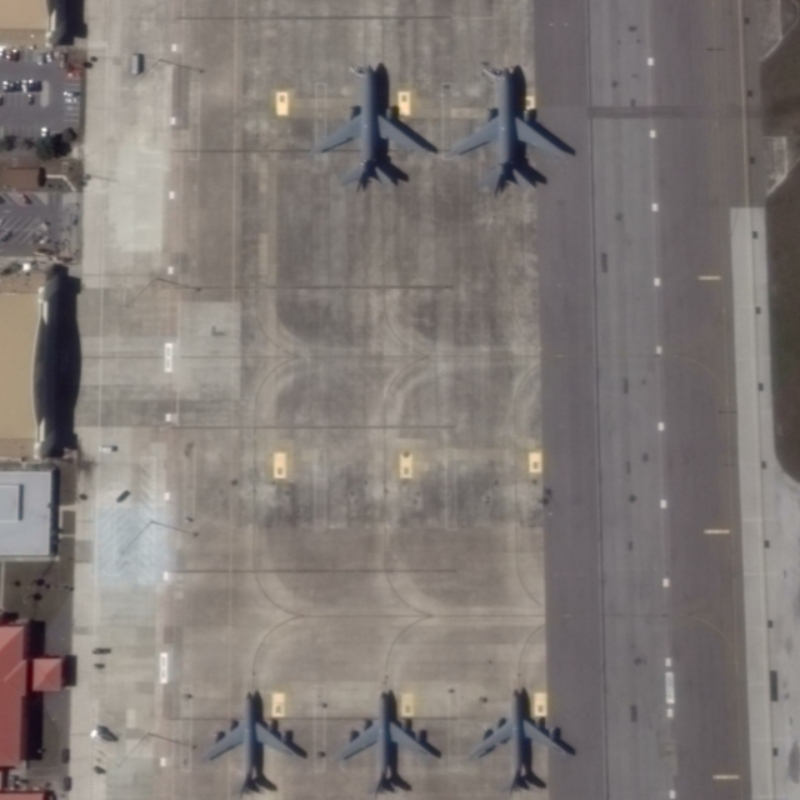A14: (461, 684, 581, 794), (199, 689, 314, 800), (335, 690, 447, 799)
A18: (450, 59, 575, 197), (315, 61, 435, 190)
